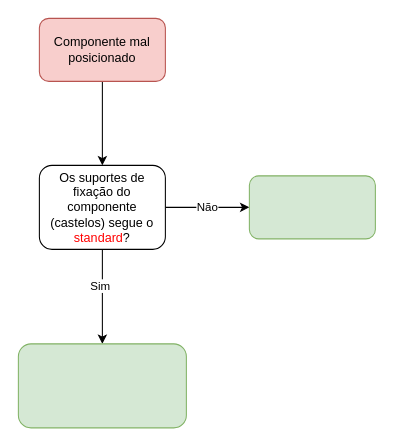
The diagram is 394 pixels wide and 446 high, and some of its shapes have lost their labels. Here are the shapes that lost their labels. From the top down, the box of each, then its label:
(248, 175, 375, 239): Revisão do molde (Correção do castelo)
(17, 343, 186, 428): Dar formação ao colaborador (Erro humano na colocaçãodos suportes de fixação)
